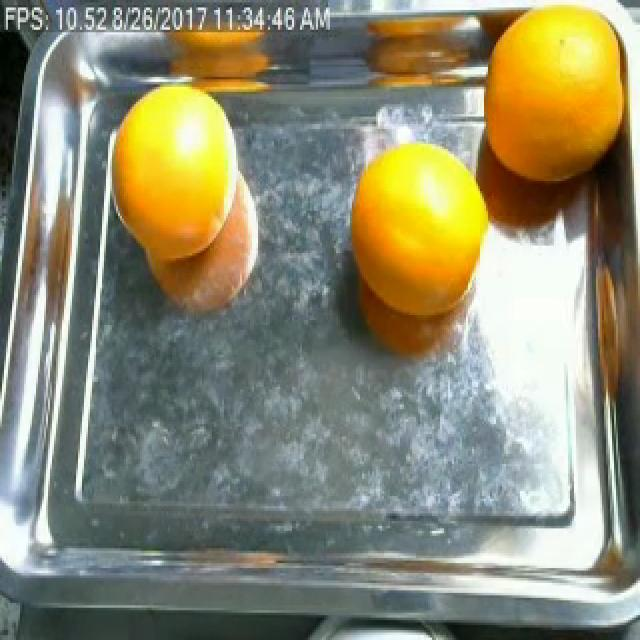Fruit: (106, 67, 246, 280), (152, 15, 284, 79)
